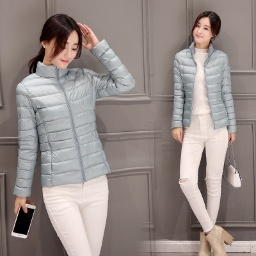face: (26, 3, 91, 80), (180, 6, 229, 57)
